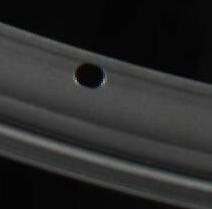holes: (73, 60, 107, 89)
